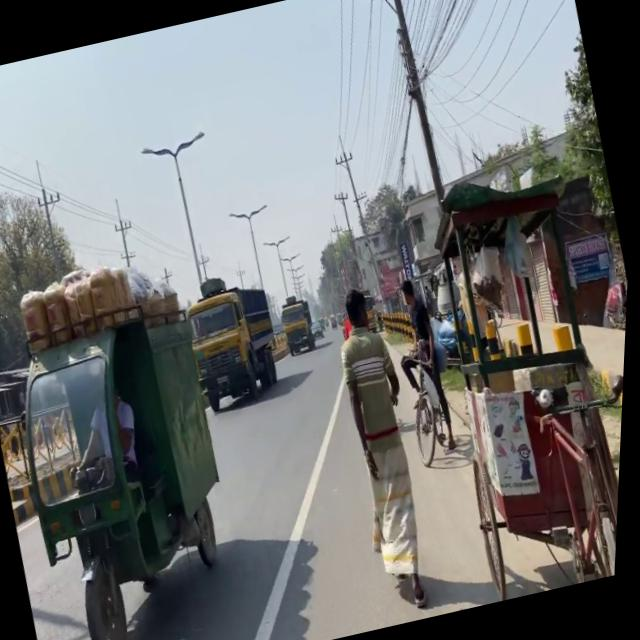Construction-barrier: (193, 367, 406, 640)
Dog: (14, 248, 186, 352)
Fallen-tree: (396, 342, 466, 468)
Garbage: (402, 159, 634, 601)
Garbage-bin: (317, 282, 456, 614), (388, 274, 467, 456)
Pothole: (360, 267, 631, 617)
Traffic-cone: (0, 247, 269, 640), (177, 266, 294, 414), (277, 292, 322, 356)
